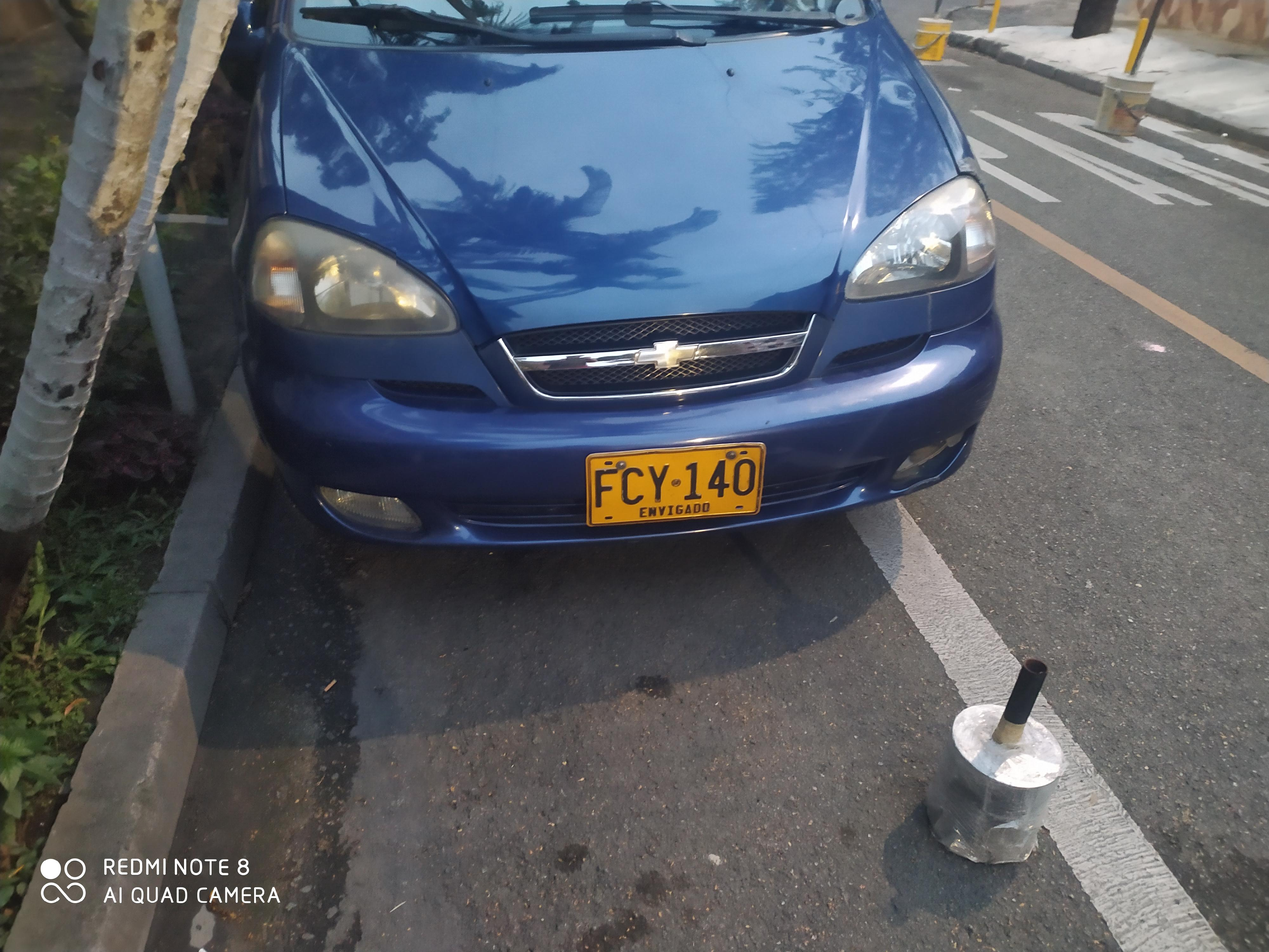placa: (572, 438, 774, 529)
